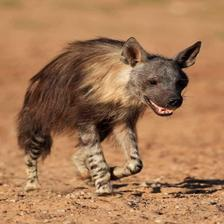hyena: (17, 34, 224, 195)
